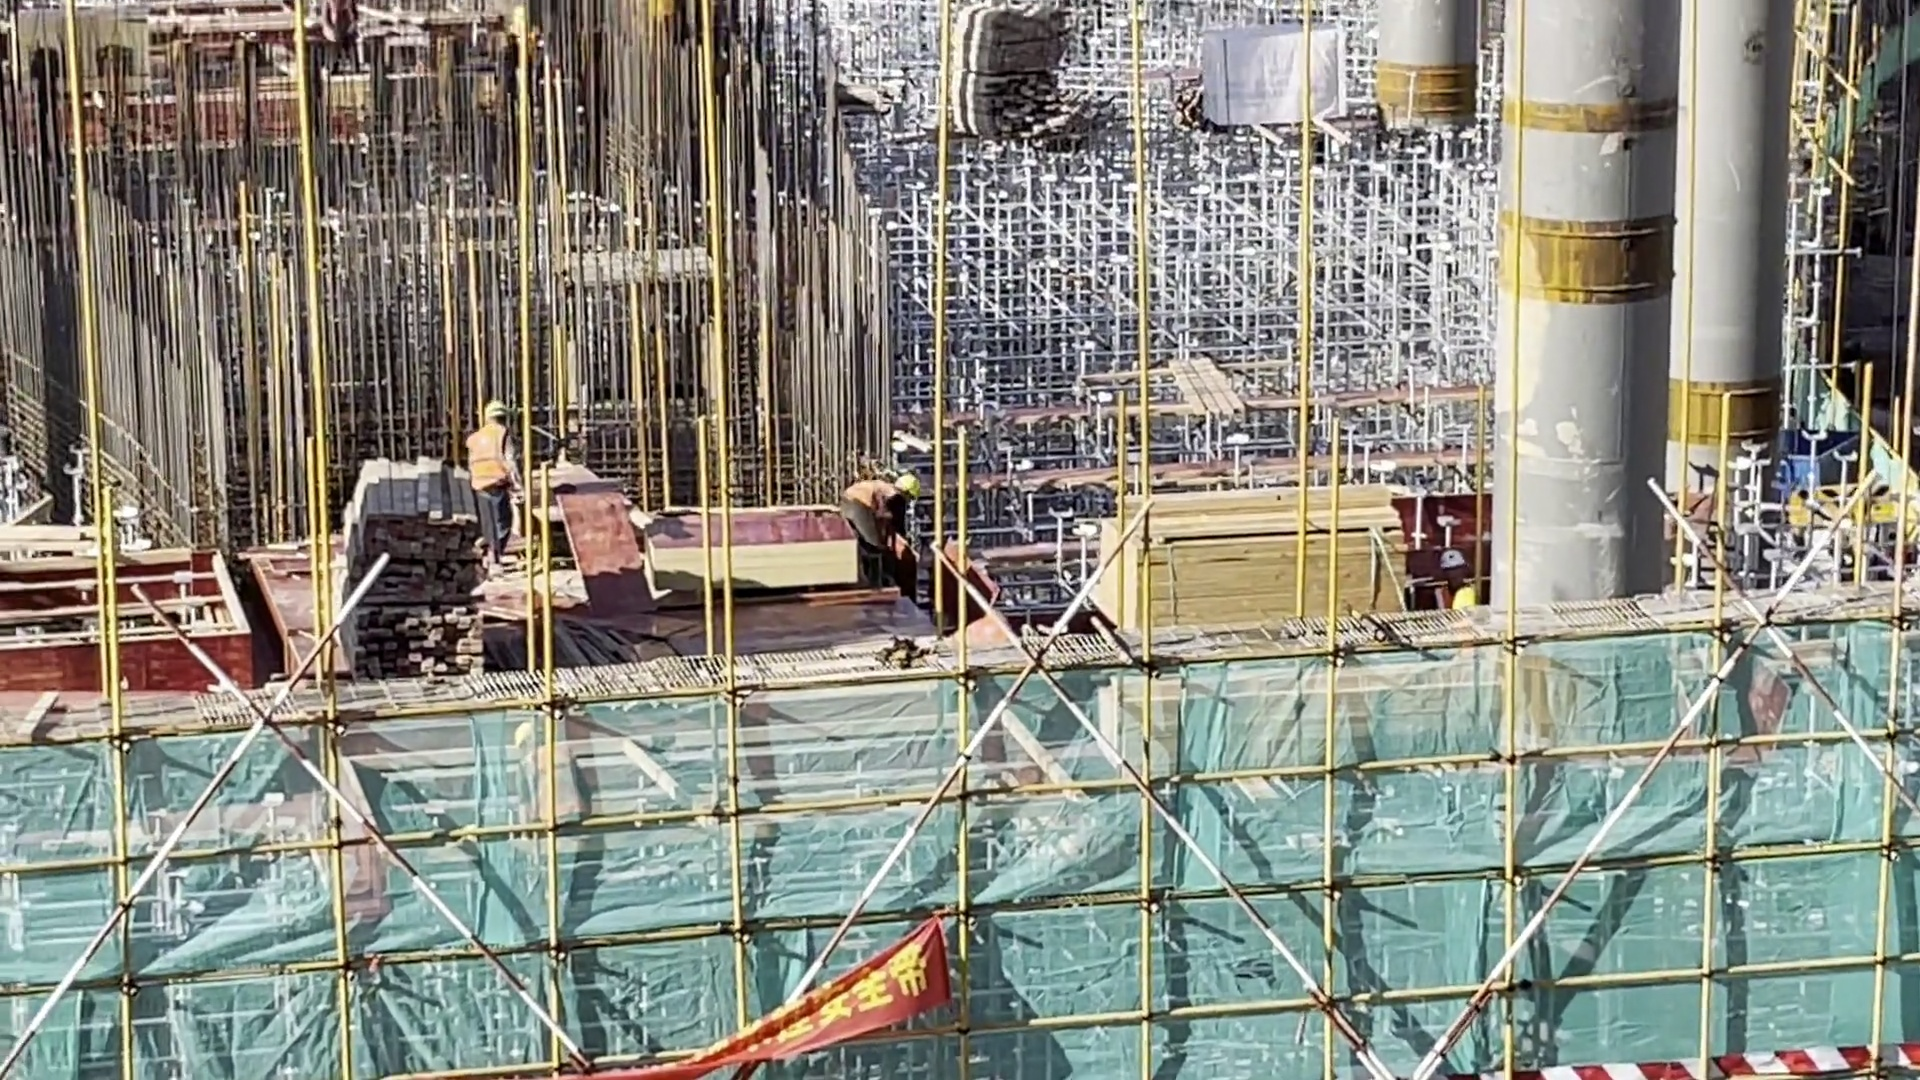board: (651, 512, 845, 599)
helmet: (507, 720, 546, 746), (899, 474, 920, 499), (1455, 591, 1476, 615), (1440, 553, 1465, 567), (481, 401, 505, 415)
person: (839, 455, 916, 593), (508, 720, 591, 843), (470, 402, 518, 564), (315, 1, 371, 79), (1426, 548, 1481, 608)
slogan: (593, 936, 963, 1080)
vest: (534, 757, 580, 814), (469, 429, 509, 488), (841, 475, 896, 513), (318, 1, 361, 43), (1435, 586, 1455, 613)
wood: (1117, 669, 1524, 773), (1119, 499, 1407, 620), (352, 449, 481, 588), (356, 599, 496, 676), (960, 81, 1096, 149), (942, 10, 1054, 64)
